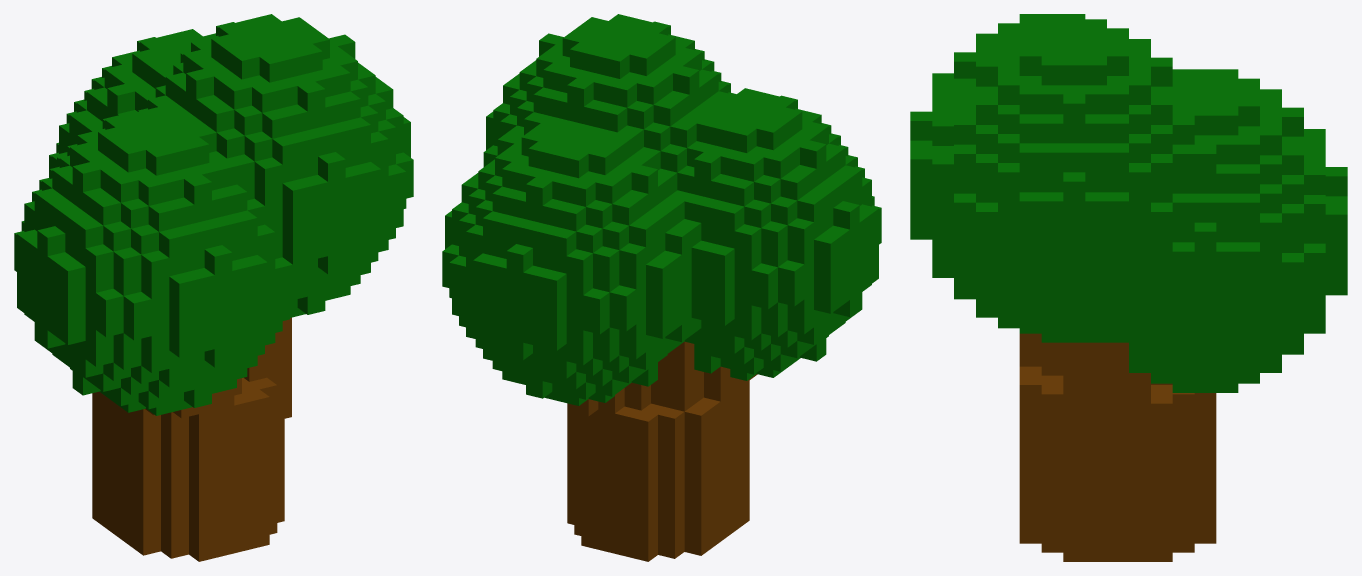
The model's file is puu.gltf.
3 views of the same model, side by side, from view 1: azimuth 30°, elevation 25°; view 2: azimuth 150°, elevation 25°; view 3: azimuth 270°, elevation 25° (orthographic). The views are drawn at different scales.
Parts seen in each view (by area): view 1: Layer.2, Layer.4, Layer.1, Layer.3; view 2: Layer.3, Layer.2, Layer.1, Layer.4; view 3: Layer.4, Layer.3, Layer.1, Layer.2.
Boxes of the visible parts, left/top/right/bottom form: Layer.2: left=14, top=107, right=300, bottom=415; Layer.4: left=138, top=14, right=413, bottom=317; Layer.1: left=92, top=317, right=291, bottom=561; Layer.3: left=49, top=29, right=215, bottom=177; Layer.3: left=442, top=116, right=691, bottom=405; Layer.2: left=668, top=88, right=881, bottom=380; Layer.1: left=567, top=341, right=757, bottom=561; Layer.4: left=483, top=14, right=736, bottom=172; Layer.4: left=932, top=19, right=1194, bottom=342; Layer.3: left=1107, top=69, right=1347, bottom=392; Layer.1: left=1019, top=333, right=1216, bottom=561; Layer.2: left=910, top=14, right=1085, bottom=328.
Size of the model in its own units: 20 by 26 by 20.
Materials: 1 (1 with a texture image).
